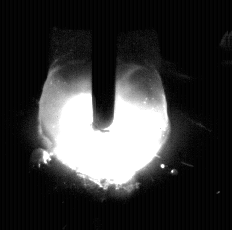arame: (92, 0, 116, 131)
poca: (37, 0, 171, 230)
